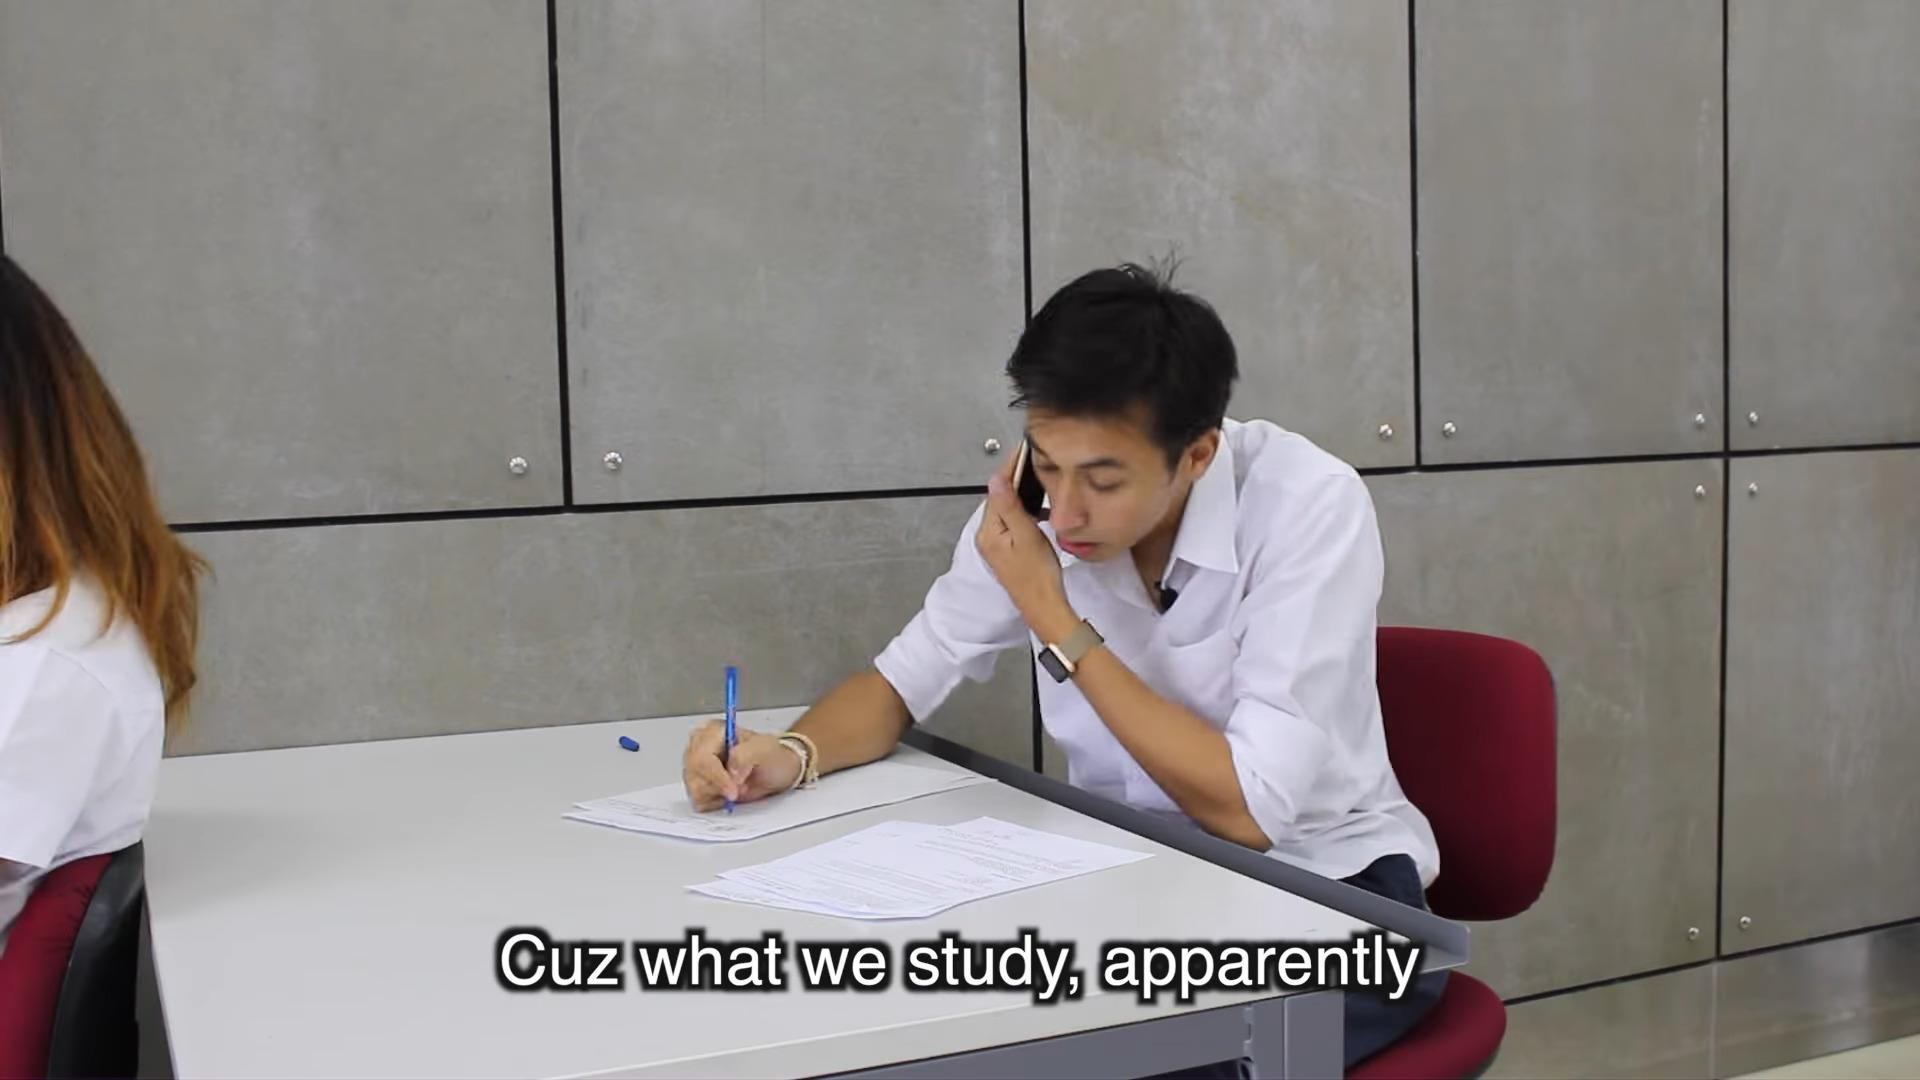cheating: (550, 214, 1470, 930)
